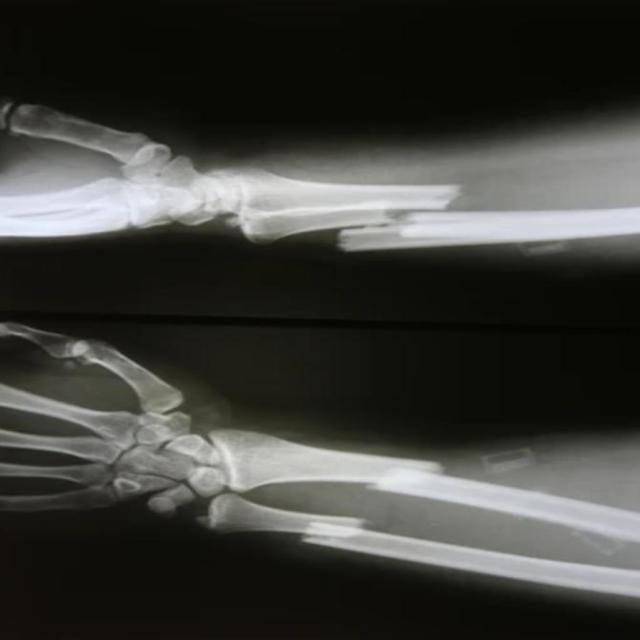bone: (290, 177, 488, 260), (276, 514, 376, 560), (346, 454, 456, 495)
